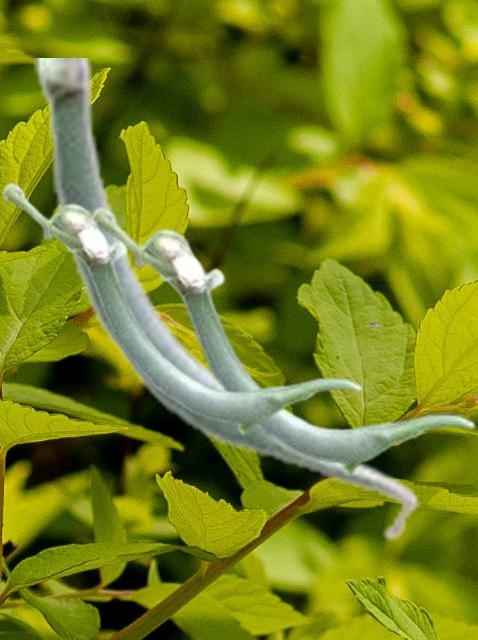french_bean: (34, 58, 419, 543), (90, 205, 475, 475), (1, 181, 362, 435)
